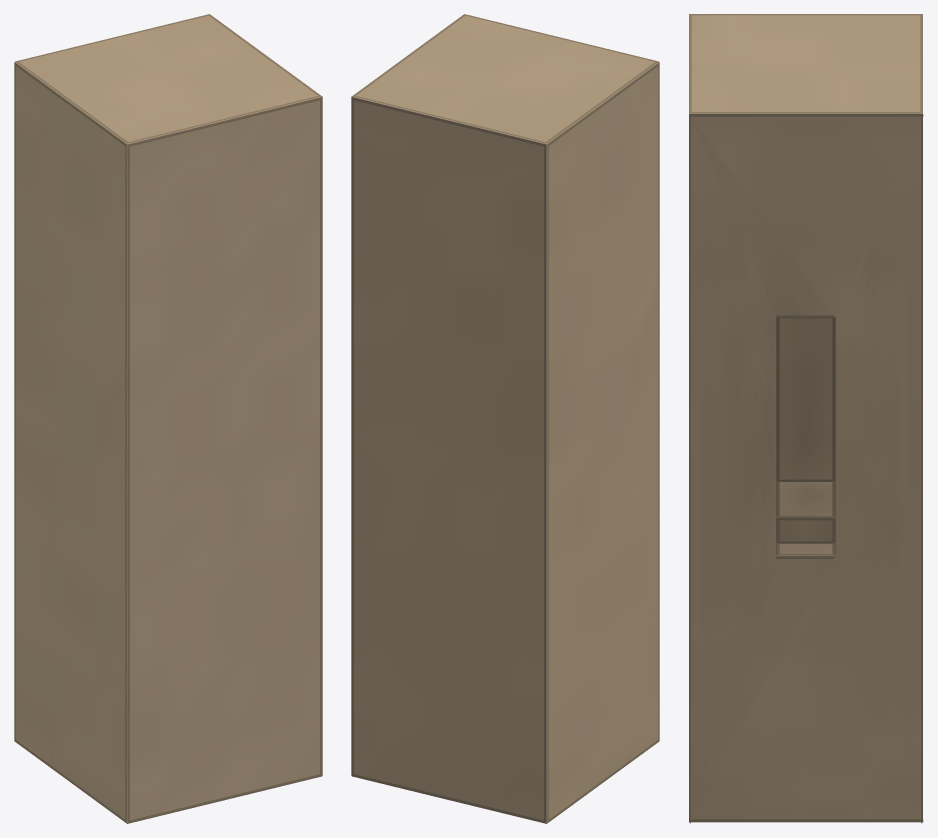
3 views of the same model, side by side, from view 1: azimuth 30°, elevation 25°; view 2: azimuth 150°, elevation 25°; view 3: azimuth 270°, elevation 25° (orthographic). The views are drawn at different scales.
Parts seen in each view (by area): view 1: part-a; view 2: part-a; view 3: part-a.
Part boxes in pixels (x1,y1,x2,y2): part-a: (14, 14, 322, 823); part-a: (351, 14, 659, 823); part-a: (689, 14, 923, 823).
Size of the model in its own units: 0.121 by 0.4015 by 0.1208.
